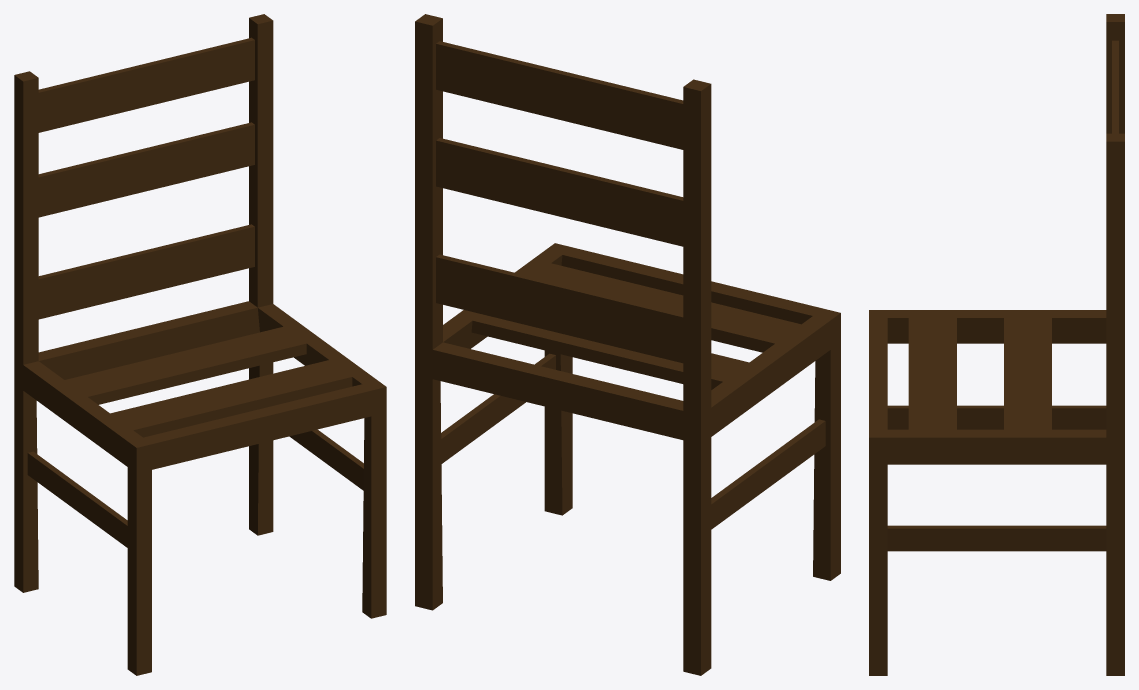
Rendered from chair3.fbx.
The picture shows the model from 3 angles, left to right: view 1: azimuth 30°, elevation 25°; view 2: azimuth 150°, elevation 25°; view 3: azimuth 270°, elevation 25°; orthographic projection. The views are drawn at different scales.
Parts seen in each view (by area): view 1: chair3; view 2: chair3; view 3: chair3.
Boxes of the visible parts, x1=… form: chair3: x1=14, y1=14, x2=386, y2=675; chair3: x1=415, y1=14, x2=840, y2=675; chair3: x1=869, y1=14, x2=1124, y2=675.
Bounding box in the file's own units: 132 × 258 × 112.
